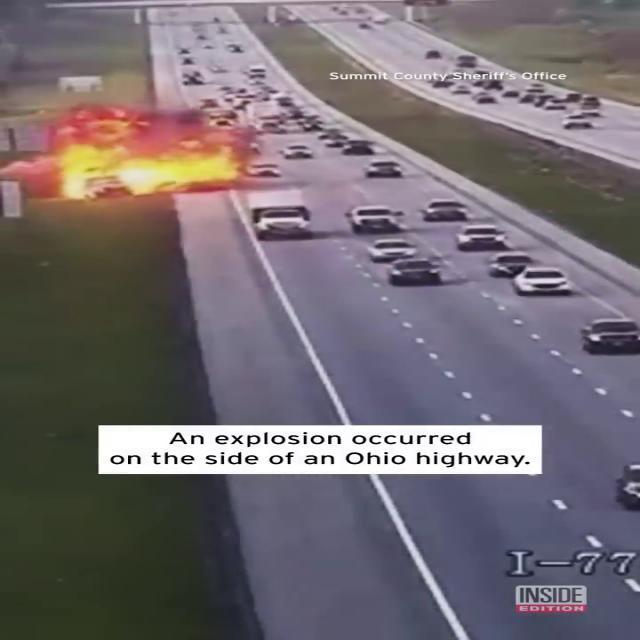Fire: (35, 134, 250, 200)
